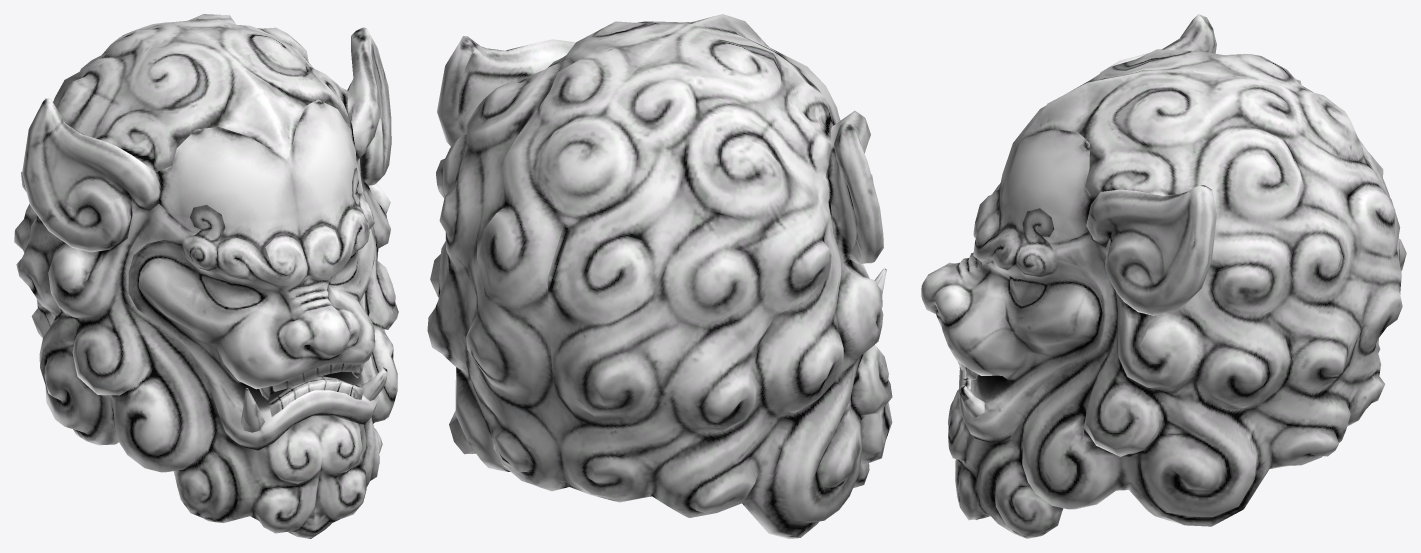
Rendered from SurvivorMale_Head_Mask_Fudog_LOD0.glb.
3 views of the same model, side by side, from view 1: azimuth 30°, elevation 25°; view 2: azimuth 150°, elevation 25°; view 3: azimuth 270°, elevation 25° (orthographic). The views are drawn at different scales.
Visible parts, largest first — view 1: Hoodie; view 2: Hoodie; view 3: Hoodie.
Part boxes in pixels (x1=…): Hoodie: x1=14, y1=14, x2=398, y2=538; Hoodie: x1=427, y1=14, x2=892, y2=538; Hoodie: x1=921, y1=14, x2=1406, y2=538.
Bounding box in the file's own units: 0.2561 × 0.2882 × 0.2825.
Materials: 1 (1 with a texture image).
